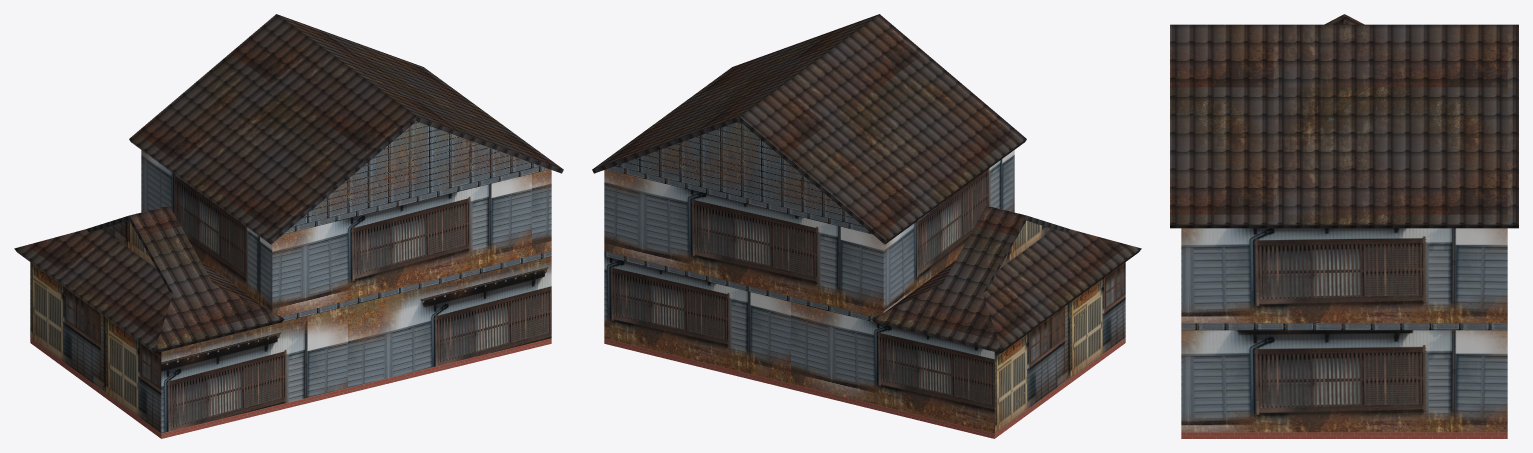
The model's file is Rusted House 4 two Floors.fbx.
3 views of the same model, side by side, from view 1: azimuth 30°, elevation 25°; view 2: azimuth 150°, elevation 25°; view 3: azimuth 270°, elevation 25° (orthographic). The views are drawn at different scales.
Visible parts, largest first — view 1: Roof Side_4gnmKglrQg60bywAYNJaLw, Wall_lY4mwwr2Rye8V6_-zrPZ4w, Wall_l_bU3bIsSIeTAYQHcx54Gw, Segmented Roof Side_9VQaRm3tQTWNDshGN_FC3Q, Wall_dlR5rfEASZ6Ksx5eTcJmKw, Roof Gable_QwT22igmT5eSFRnZ0mrfwg, Roof Side_A-VaKQRuQtu_Lwx1f0_uNQ, Roof Side_x84dtA5nR2qmMClRa-Ad2Q, Wall_ZHt3GDXuQy--6mqW5GK1zA, Slab_jqlJEN-ZQHeh4RA5_siOGg, Slab_ioM-SYCDTPSa1XqCcOOD6A, Slab_i5JJvN64SrOwtH8cdfcsqg (+1 smaller); view 2: Roof Side_4gnmKglrQg60bywAYNJaLw, Wall_qMe9xNDySWaxML2SCIhf_Q, Wall_-J8GY64GSryGTKW-pPBN7A, Segmented Roof Side_9VQaRm3tQTWNDshGN_FC3Q, Wall_dlR5rfEASZ6Ksx5eTcJmKw, Roof Gable_D-Srw8xiTtWMVwxzJaEpag, Roof Side__27EKTDhRWCs6h4kydCsag, Roof Side_x84dtA5nR2qmMClRa-Ad2Q, Wall_ZHt3GDXuQy--6mqW5GK1zA, Slab_jqlJEN-ZQHeh4RA5_siOGg, Slab_ioM-SYCDTPSa1XqCcOOD6A, Slab_i5JJvN64SrOwtH8cdfcsqg (+1 smaller); view 3: Roof Side_x84dtA5nR2qmMClRa-Ad2Q, Wall_dWv88StaRdKwyKSPsNrPNg, Wall_1a1NmXUaT_O00-up3QWaOA, Slab_ioM-SYCDTPSa1XqCcOOD6A, Slab_jqlJEN-ZQHeh4RA5_siOGg.
Part boxes in pixels (box(x1,y1,x2,y2)): Roof Side_4gnmKglrQg60bywAYNJaLw: box(129, 14, 416, 244); Wall_lY4mwwr2Rye8V6_-zrPZ4w: box(161, 256, 551, 433); Wall_l_bU3bIsSIeTAYQHcx54Gw: box(272, 169, 551, 316); Segmented Roof Side_9VQaRm3tQTWNDshGN_FC3Q: box(14, 221, 172, 352); Wall_dlR5rfEASZ6Ksx5eTcJmKw: box(30, 262, 161, 432); Roof Gable_QwT22igmT5eSFRnZ0mrfwg: box(292, 121, 540, 226); Roof Side_A-VaKQRuQtu_Lwx1f0_uNQ: box(129, 206, 284, 353); Roof Side_x84dtA5nR2qmMClRa-Ad2Q: box(277, 14, 563, 173); Wall_ZHt3GDXuQy--6mqW5GK1zA: box(141, 150, 272, 312); Slab_jqlJEN-ZQHeh4RA5_siOGg: box(30, 338, 551, 438); Slab_ioM-SYCDTPSa1XqCcOOD6A: box(282, 251, 551, 321); Slab_i5JJvN64SrOwtH8cdfcsqg: box(283, 166, 549, 234); Roof Side_4gnmKglrQg60bywAYNJaLw: box(739, 14, 1026, 244); Wall_qMe9xNDySWaxML2SCIhf_Q: box(604, 256, 994, 433); Wall_-J8GY64GSryGTKW-pPBN7A: box(604, 169, 883, 316); Segmented Roof Side_9VQaRm3tQTWNDshGN_FC3Q: box(983, 221, 1141, 352); Wall_dlR5rfEASZ6Ksx5eTcJmKw: box(994, 262, 1125, 432); Roof Gable_D-Srw8xiTtWMVwxzJaEpag: box(615, 121, 863, 226); Roof Side__27EKTDhRWCs6h4kydCsag: box(871, 206, 1026, 353); Roof Side_x84dtA5nR2qmMClRa-Ad2Q: box(592, 14, 878, 173); Wall_ZHt3GDXuQy--6mqW5GK1zA: box(883, 150, 1014, 312); Slab_jqlJEN-ZQHeh4RA5_siOGg: box(604, 338, 1125, 438); Slab_ioM-SYCDTPSa1XqCcOOD6A: box(604, 251, 873, 321); Slab_i5JJvN64SrOwtH8cdfcsqg: box(606, 166, 872, 234); Roof Side_x84dtA5nR2qmMClRa-Ad2Q: box(1170, 24, 1518, 228); Wall_dWv88StaRdKwyKSPsNrPNg: box(1181, 330, 1507, 432); Wall_1a1NmXUaT_O00-up3QWaOA: box(1181, 228, 1507, 323); Slab_ioM-SYCDTPSa1XqCcOOD6A: box(1181, 323, 1507, 330); Slab_jqlJEN-ZQHeh4RA5_siOGg: box(1181, 432, 1507, 438).
Size of the model in its own units: 1570 by 969 by 930.
Materials: 20 (17 with a texture image).
